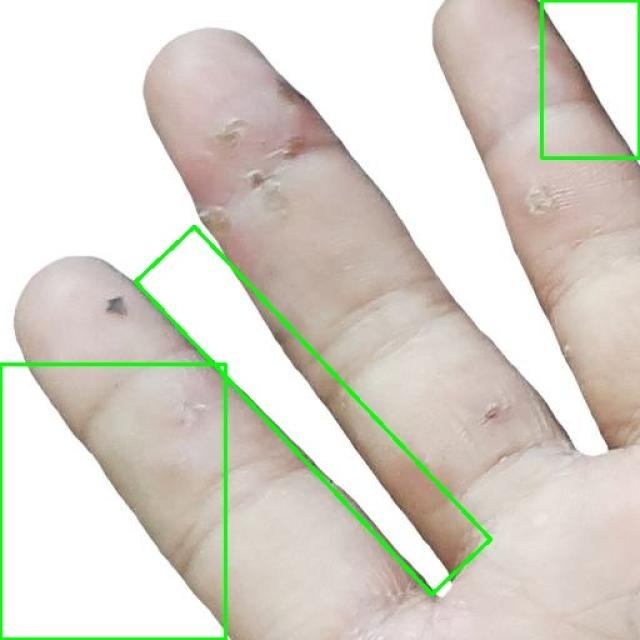Scabies: (136, 227, 490, 595), (0, 364, 225, 639), (541, 0, 639, 158)
